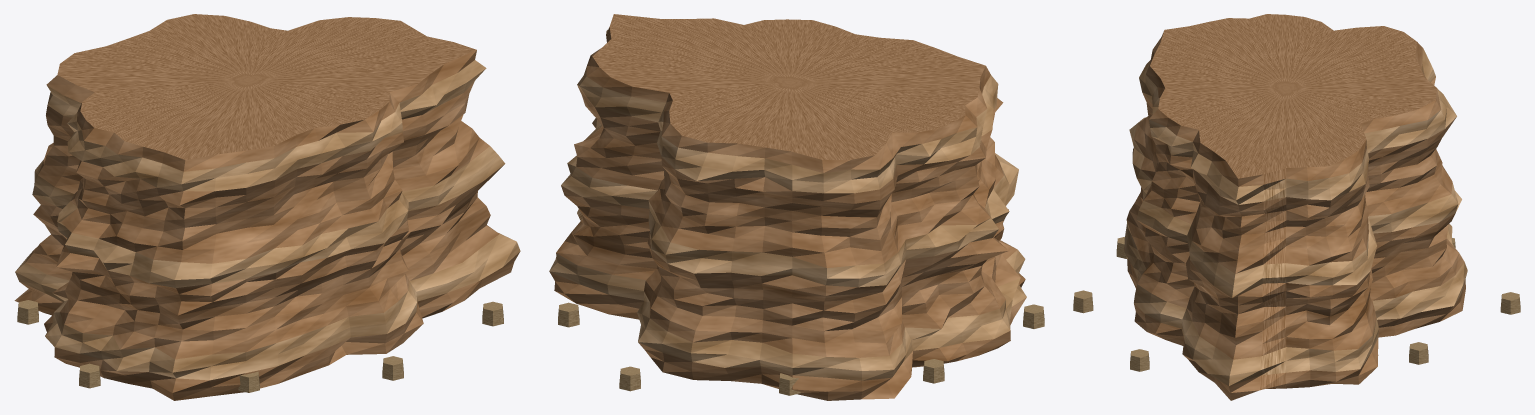
File: ROCK_01_ERODED_SANDSTONE.glb
3 views of the same model, side by side, from view 1: azimuth 30°, elevation 25°; view 2: azimuth 150°, elevation 25°; view 3: azimuth 270°, elevation 25° (orthographic). The views are drawn at different scales.
Visible parts, largest first — view 1: ROCK_01_ERODED_SANDSTONE__ROCK_BODY, ROCK_01_ERODED_SANDSTONE__SCATTERED_GRIT_STONES; view 2: ROCK_01_ERODED_SANDSTONE__ROCK_BODY, ROCK_01_ERODED_SANDSTONE__SCATTERED_GRIT_STONES; view 3: ROCK_01_ERODED_SANDSTONE__ROCK_BODY, ROCK_01_ERODED_SANDSTONE__SCATTERED_GRIT_STONES.
Boxes of the visible parts, bbox=[...] form: ROCK_01_ERODED_SANDSTONE__ROCK_BODY: bbox=[14, 14, 520, 400]; ROCK_01_ERODED_SANDSTONE__SCATTERED_GRIT_STONES: bbox=[17, 300, 503, 392]; ROCK_01_ERODED_SANDSTONE__ROCK_BODY: bbox=[549, 14, 1026, 400]; ROCK_01_ERODED_SANDSTONE__SCATTERED_GRIT_STONES: bbox=[558, 302, 1044, 395]; ROCK_01_ERODED_SANDSTONE__ROCK_BODY: bbox=[1124, 14, 1467, 400]; ROCK_01_ERODED_SANDSTONE__SCATTERED_GRIT_STONES: bbox=[1073, 237, 1520, 371].
Bounding box in the file's own units: 1.09 × 0.52 × 1.01.
1 material, 1 textured.
